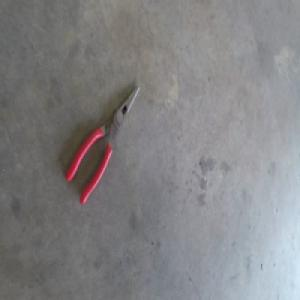Pliers: (64, 83, 139, 203)
